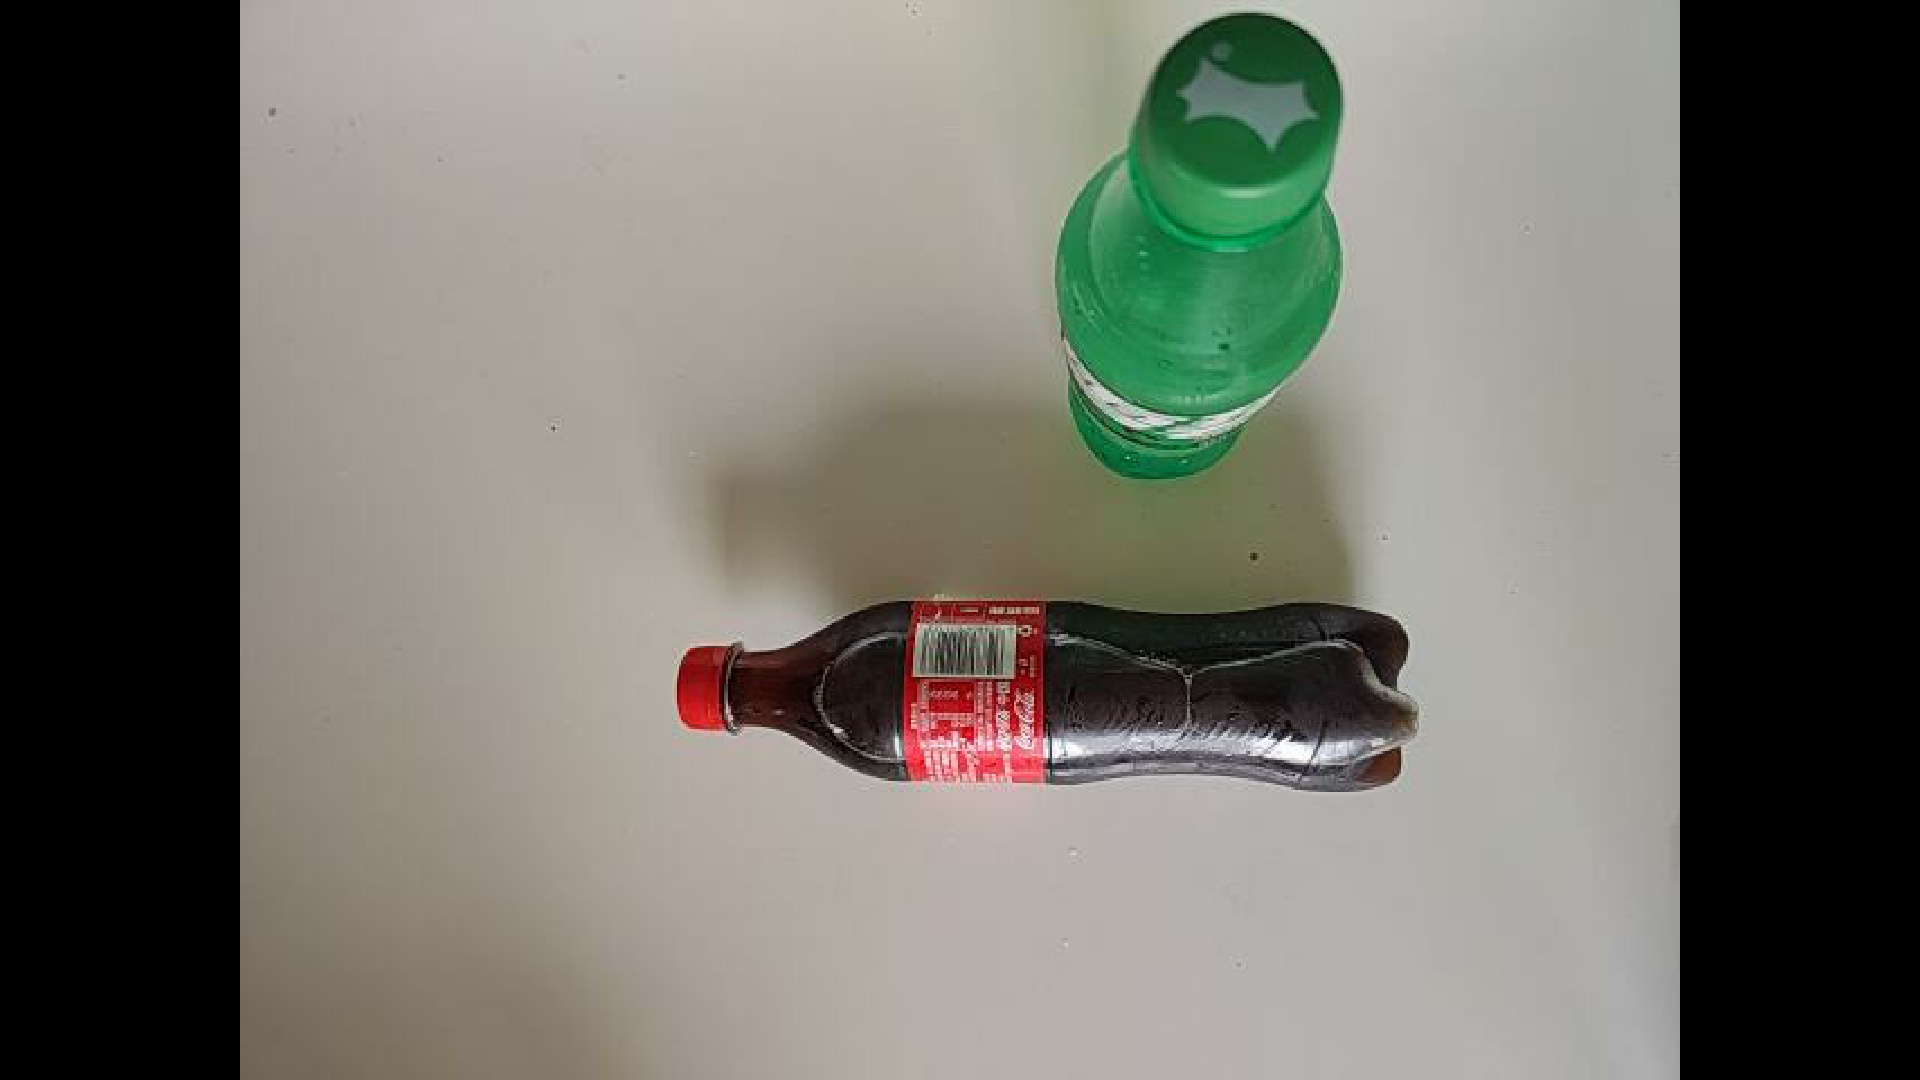cola: (673, 599, 1422, 793)
sprite: (1052, 9, 1345, 483)
